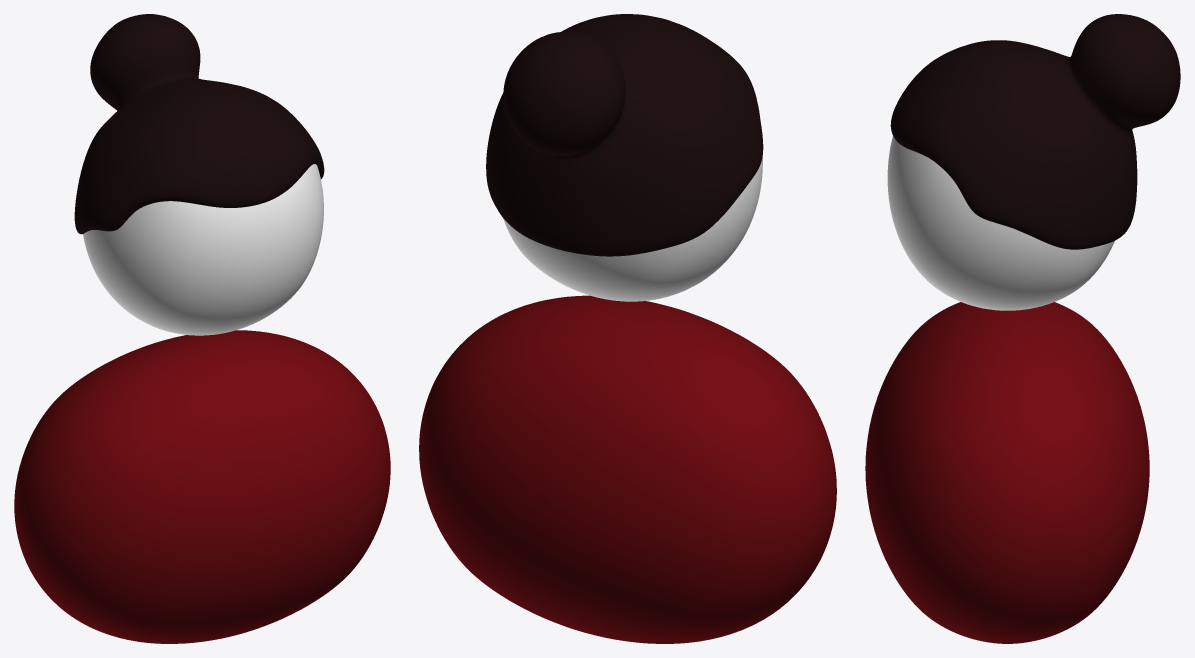
Rendered from girl.glb.
3 renders of one model, left to right at view 1: azimuth 30°, elevation 25°; view 2: azimuth 150°, elevation 25°; view 3: azimuth 270°, elevation 25°, orthographic. The views are drawn at different scales.
Parts seen in each view (by area): view 1: Girl; view 2: Girl; view 3: Girl.
Boxes of the visible parts, bbox=[...] form: Girl: bbox=[14, 14, 390, 643]; Girl: bbox=[419, 14, 836, 643]; Girl: bbox=[865, 14, 1180, 643].
Bounding box in the file's own units: 1.23 × 1.93 × 0.9222.
